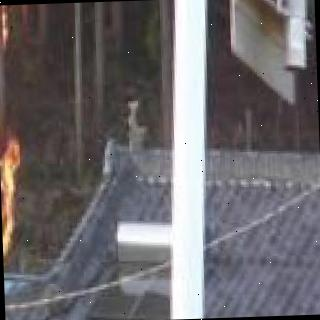fire: (0, 5, 18, 263)
